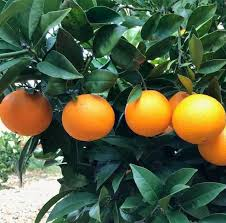orange: (59, 90, 116, 139), (172, 92, 226, 142), (123, 86, 171, 141), (1, 88, 52, 134)
